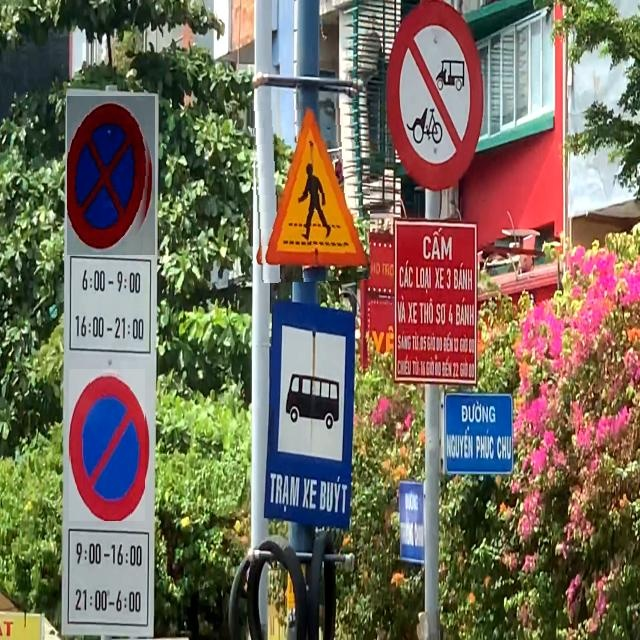bien_cam: (251, 102, 370, 283), (67, 96, 155, 255), (69, 369, 145, 521)
